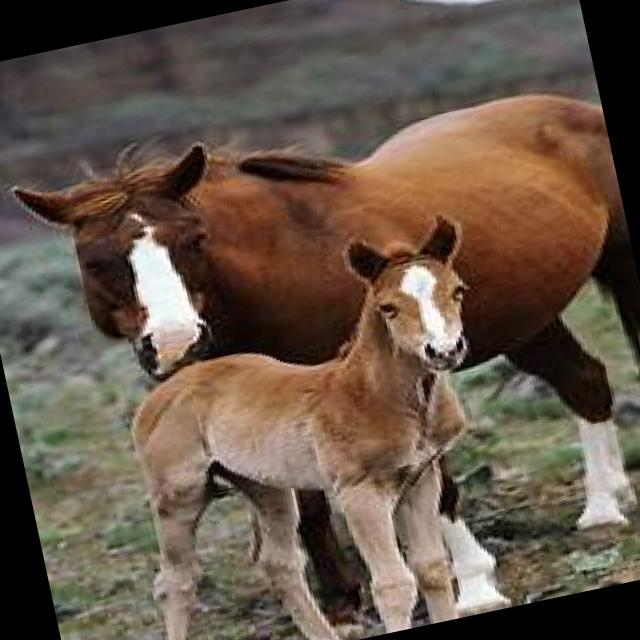animal: (0, 26, 623, 408), (67, 212, 572, 640)
